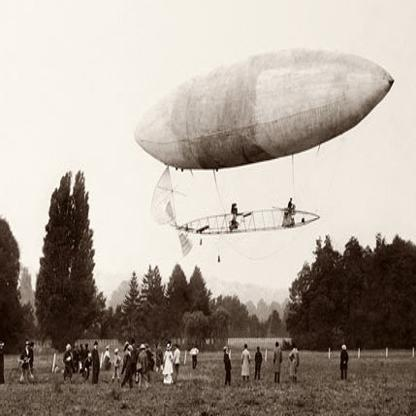Airship: (124, 50, 394, 172)
